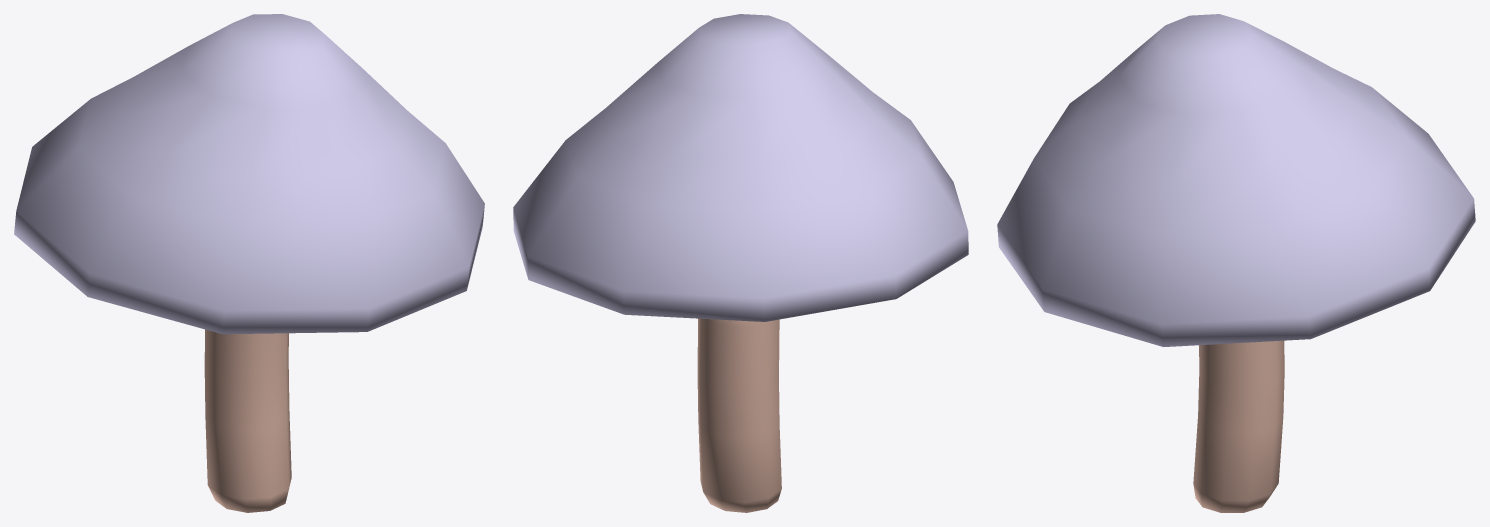
The model's file is BIGMUSHROOMTREE3.fbx.
3 views of the same model, side by side, from view 1: azimuth 30°, elevation 25°; view 2: azimuth 150°, elevation 25°; view 3: azimuth 270°, elevation 25° (orthographic). The views are drawn at different scales.
Parts seen in each view (by area): view 1: Cylinder.001; view 2: Cylinder.001; view 3: Cylinder.001.
Part boxes in pixels (bbox=[...]): Cylinder.001: bbox=[14, 14, 484, 512]; Cylinder.001: bbox=[513, 14, 968, 512]; Cylinder.001: bbox=[997, 14, 1475, 512].
Bounding box in the file's own units: 2290 × 2610 × 2404.
